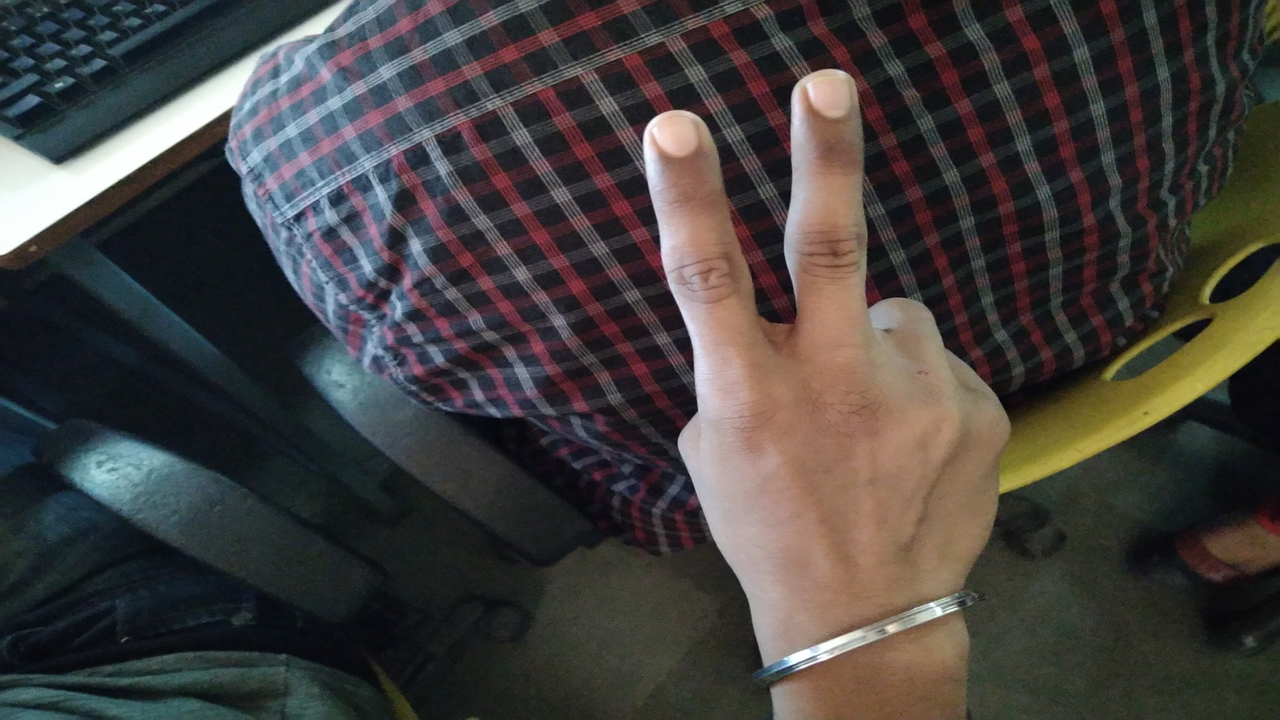fingertip: (634, 104, 718, 174), (788, 62, 866, 136)
